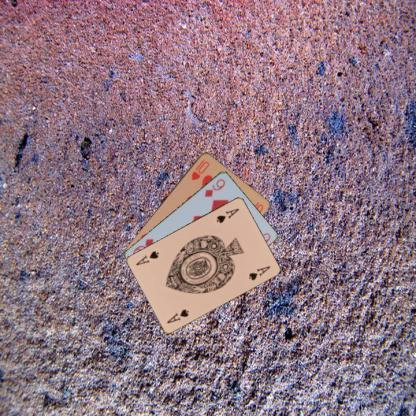10h: (188, 156, 210, 182)
9d: (202, 176, 227, 198)
As: (213, 205, 240, 224), (164, 306, 190, 324)
